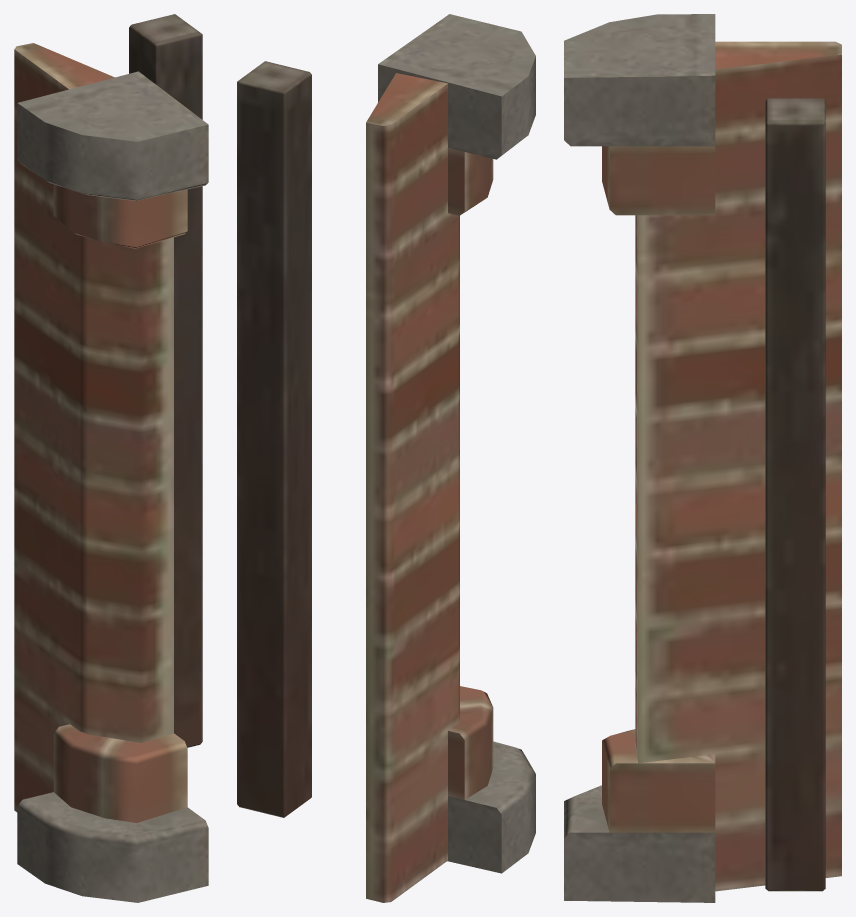
File: wall.half.brick.corner.r.glb
3 renders of one model, left to right at view 1: azimuth 30°, elevation 25°; view 2: azimuth 150°, elevation 25°; view 3: azimuth 270°, elevation 25°, orthographic. The views are drawn at different scales.
Parts seen in each view (by area): view 1: model; view 2: model; view 3: model.
Part boxes in pixels (x1=…): model: x1=14, y1=14, x2=208, y2=902; model: x1=237, y1=14, x2=535, y2=902; model: x1=564, y1=14, x2=841, y2=902.
Bounding box in the file's own units: 0.4325 × 1.51 × 0.459.
1 material, 1 textured.
